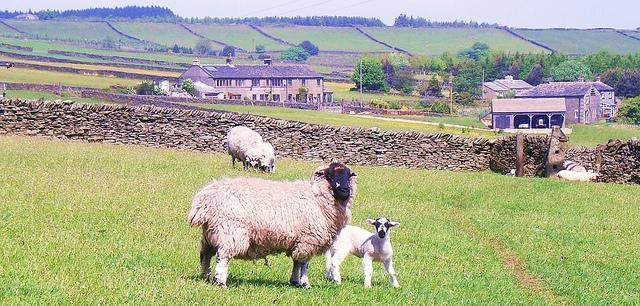car: (298, 104, 318, 110), (518, 122, 529, 128)
